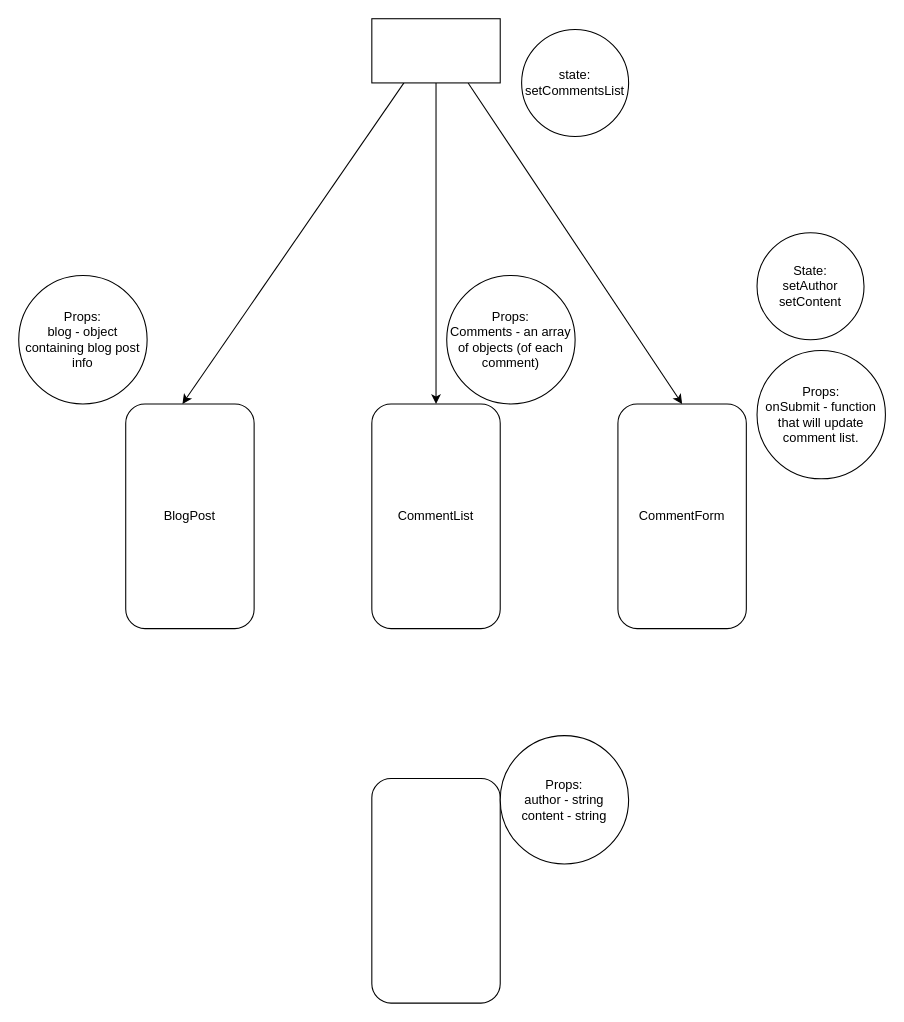
The diagram is 904 pixels wide and 1022 high, and some of its shapes have lost their labels. The shapes that lost their labels are listed below. From the top down, each one's centre as x and y in pixels, then its label:
At [435,50]: "App".
At [435,890]: "Comment".
